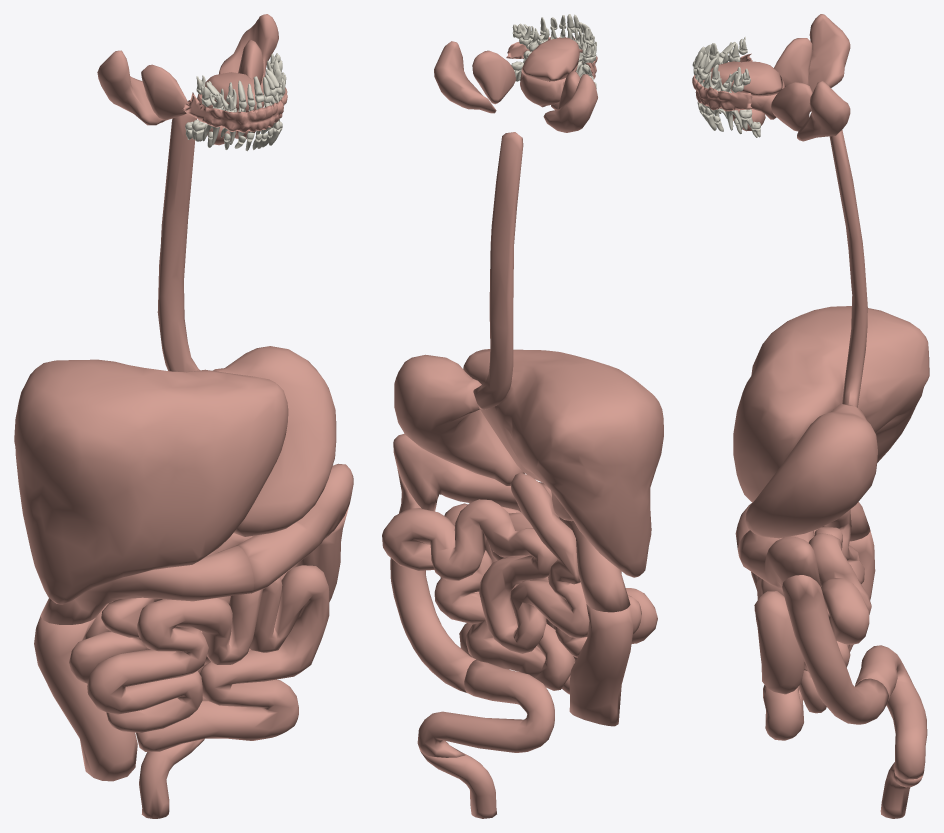
The model's file is pediatric_child_5y_male.digestive.LOD1.glb.
The picture shows the model from 3 angles, left to right: view 1: azimuth 30°, elevation 25°; view 2: azimuth 150°, elevation 25°; view 3: azimuth 270°, elevation 25°; orthographic projection. The views are drawn at different scales.
Parts seen in each view (by area): view 1: PEDIATRIC.CHILD_5Y.MALE.DIGESTIVE.LIVER, PEDIATRIC.CHILD_5Y.MALE.DIGESTIVE.SMALL_INTESTINE_WALL, PEDIATRIC.CHILD_5Y.MALE.DIGESTIVE.STOMACH_WALL, PEDIATRIC.CHILD_5Y.MALE.DIGESTIVE.ASCENDING_COLON_WALL, PEDIATRIC.CHILD_5Y.MALE.DIGESTIVE.TRANSVERSE_COLON_WALL.R, PEDIATRIC.CHILD_5Y.MALE.DIGESTIVE.OESOPHAGUS_WALL, PEDIATRIC.CHILD_5Y.MALE.DIGESTIVE.TRANSVERSE_COLON_WALL.L, PEDIATRIC.CHILD_5Y.MALE.DIGESTIVE.SALIVARY_GLANDS.R, PEDIATRIC.CHILD_5Y.MALE.DIGESTIVE.RECTUM_WALL, PEDIATRIC.CHILD_5Y.MALE.DIGESTIVE.SALIVARY_GLANDS.L, PEDIATRIC.CHILD_5Y.MALE.DIGESTIVE.ORAL_MUCOSA_LIP_AND_CHEEKS, PEDIATRIC.CHILD_5Y.MALE.DIGESTIVE.PERMANENT_CEMENTUM (+4 smaller); view 2: PEDIATRIC.CHILD_5Y.MALE.DIGESTIVE.SMALL_INTESTINE_WALL, PEDIATRIC.CHILD_5Y.MALE.DIGESTIVE.LIVER, PEDIATRIC.CHILD_5Y.MALE.DIGESTIVE.STOMACH_WALL, PEDIATRIC.CHILD_5Y.MALE.DIGESTIVE.SIGMOID_COLON_WALL, PEDIATRIC.CHILD_5Y.MALE.DIGESTIVE.OESOPHAGUS_WALL, PEDIATRIC.CHILD_5Y.MALE.DIGESTIVE.ASCENDING_COLON_WALL, PEDIATRIC.CHILD_5Y.MALE.DIGESTIVE.DESCENDING_COLON_WALL, PEDIATRIC.CHILD_5Y.MALE.DIGESTIVE.TRANSVERSE_COLON_WALL.L, PEDIATRIC.CHILD_5Y.MALE.DIGESTIVE.SALIVARY_GLANDS.L, PEDIATRIC.CHILD_5Y.MALE.DIGESTIVE.TRANSVERSE_COLON_WALL.R, PEDIATRIC.CHILD_5Y.MALE.DIGESTIVE.RECTUM_WALL, PEDIATRIC.CHILD_5Y.MALE.DIGESTIVE.SALIVARY_GLANDS.R (+4 smaller); view 3: PEDIATRIC.CHILD_5Y.MALE.DIGESTIVE.LIVER, PEDIATRIC.CHILD_5Y.MALE.DIGESTIVE.SMALL_INTESTINE_WALL, PEDIATRIC.CHILD_5Y.MALE.DIGESTIVE.STOMACH_WALL, PEDIATRIC.CHILD_5Y.MALE.DIGESTIVE.DESCENDING_COLON_WALL, PEDIATRIC.CHILD_5Y.MALE.DIGESTIVE.SIGMOID_COLON_WALL, PEDIATRIC.CHILD_5Y.MALE.DIGESTIVE.OESOPHAGUS_WALL, PEDIATRIC.CHILD_5Y.MALE.DIGESTIVE.SALIVARY_GLANDS.R, PEDIATRIC.CHILD_5Y.MALE.DIGESTIVE.SALIVARY_GLANDS.L, PEDIATRIC.CHILD_5Y.MALE.DIGESTIVE.TRANSVERSE_COLON_WALL.L, PEDIATRIC.CHILD_5Y.MALE.DIGESTIVE.PERMANENT_CEMENTUM, PEDIATRIC.CHILD_5Y.MALE.DIGESTIVE.ORAL_MUCOSA_MOUTH_FLOOR, PEDIATRIC.CHILD_5Y.MALE.DIGESTIVE.RECTUM_WALL (+5 smaller).
Part boxes in pixels (bbox=[...]): PEDIATRIC.CHILD_5Y.MALE.DIGESTIVE.LIVER: bbox=[14, 359, 288, 604]; PEDIATRIC.CHILD_5Y.MALE.DIGESTIVE.SMALL_INTESTINE_WALL: bbox=[69, 533, 329, 751]; PEDIATRIC.CHILD_5Y.MALE.DIGESTIVE.STOMACH_WALL: bbox=[213, 346, 336, 536]; PEDIATRIC.CHILD_5Y.MALE.DIGESTIVE.ASCENDING_COLON_WALL: bbox=[34, 616, 137, 781]; PEDIATRIC.CHILD_5Y.MALE.DIGESTIVE.TRANSVERSE_COLON_WALL.R: bbox=[40, 546, 254, 624]; PEDIATRIC.CHILD_5Y.MALE.DIGESTIVE.OESOPHAGUS_WALL: bbox=[157, 113, 199, 372]; PEDIATRIC.CHILD_5Y.MALE.DIGESTIVE.TRANSVERSE_COLON_WALL.L: bbox=[236, 463, 353, 593]; PEDIATRIC.CHILD_5Y.MALE.DIGESTIVE.SALIVARY_GLANDS.R: bbox=[97, 50, 236, 145]; PEDIATRIC.CHILD_5Y.MALE.DIGESTIVE.RECTUM_WALL: bbox=[139, 739, 204, 818]; PEDIATRIC.CHILD_5Y.MALE.DIGESTIVE.SALIVARY_GLANDS.L: bbox=[219, 14, 278, 139]; PEDIATRIC.CHILD_5Y.MALE.DIGESTIVE.ORAL_MUCOSA_LIP_AND_CHEEKS: bbox=[182, 87, 287, 132]; PEDIATRIC.CHILD_5Y.MALE.DIGESTIVE.PERMANENT_CEMENTUM: bbox=[185, 53, 282, 151]; PEDIATRIC.CHILD_5Y.MALE.DIGESTIVE.SMALL_INTESTINE_WALL: bbox=[382, 472, 657, 694]; PEDIATRIC.CHILD_5Y.MALE.DIGESTIVE.LIVER: bbox=[463, 349, 663, 577]; PEDIATRIC.CHILD_5Y.MALE.DIGESTIVE.STOMACH_WALL: bbox=[394, 354, 524, 485]; PEDIATRIC.CHILD_5Y.MALE.DIGESTIVE.SIGMOID_COLON_WALL: bbox=[417, 659, 554, 757]; PEDIATRIC.CHILD_5Y.MALE.DIGESTIVE.OESOPHAGUS_WALL: bbox=[473, 132, 523, 409]; PEDIATRIC.CHILD_5Y.MALE.DIGESTIVE.ASCENDING_COLON_WALL: bbox=[569, 604, 633, 726]; PEDIATRIC.CHILD_5Y.MALE.DIGESTIVE.DESCENDING_COLON_WALL: bbox=[390, 467, 475, 692]; PEDIATRIC.CHILD_5Y.MALE.DIGESTIVE.TRANSVERSE_COLON_WALL.L: bbox=[393, 433, 520, 511]; PEDIATRIC.CHILD_5Y.MALE.DIGESTIVE.SALIVARY_GLANDS.L: bbox=[434, 41, 545, 113]; PEDIATRIC.CHILD_5Y.MALE.DIGESTIVE.TRANSVERSE_COLON_WALL.R: bbox=[539, 482, 630, 612]; PEDIATRIC.CHILD_5Y.MALE.DIGESTIVE.RECTUM_WALL: bbox=[420, 751, 496, 818]; PEDIATRIC.CHILD_5Y.MALE.DIGESTIVE.SALIVARY_GLANDS.R: bbox=[543, 71, 597, 132]; PEDIATRIC.CHILD_5Y.MALE.DIGESTIVE.LIVER: bbox=[733, 306, 929, 502]; PEDIATRIC.CHILD_5Y.MALE.DIGESTIVE.SMALL_INTESTINE_WALL: bbox=[751, 509, 871, 740]; PEDIATRIC.CHILD_5Y.MALE.DIGESTIVE.STOMACH_WALL: bbox=[745, 403, 877, 538]; PEDIATRIC.CHILD_5Y.MALE.DIGESTIVE.DESCENDING_COLON_WALL: bbox=[782, 575, 888, 724]; PEDIATRIC.CHILD_5Y.MALE.DIGESTIVE.SIGMOID_COLON_WALL: bbox=[855, 645, 927, 779]; PEDIATRIC.CHILD_5Y.MALE.DIGESTIVE.OESOPHAGUS_WALL: bbox=[829, 130, 867, 407]; PEDIATRIC.CHILD_5Y.MALE.DIGESTIVE.SALIVARY_GLANDS.R: bbox=[774, 14, 850, 92]; PEDIATRIC.CHILD_5Y.MALE.DIGESTIVE.SALIVARY_GLANDS.L: bbox=[732, 81, 850, 141]; PEDIATRIC.CHILD_5Y.MALE.DIGESTIVE.TRANSVERSE_COLON_WALL.L: bbox=[737, 530, 821, 588]; PEDIATRIC.CHILD_5Y.MALE.DIGESTIVE.PERMANENT_CEMENTUM: bbox=[694, 36, 760, 137]; PEDIATRIC.CHILD_5Y.MALE.DIGESTIVE.ORAL_MUCOSA_MOUTH_FLOOR: bbox=[709, 61, 782, 96]; PEDIATRIC.CHILD_5Y.MALE.DIGESTIVE.RECTUM_WALL: bbox=[880, 762, 922, 818].
Bounding box in the file's own units: 0.1879 × 0.4792 × 0.1346.
